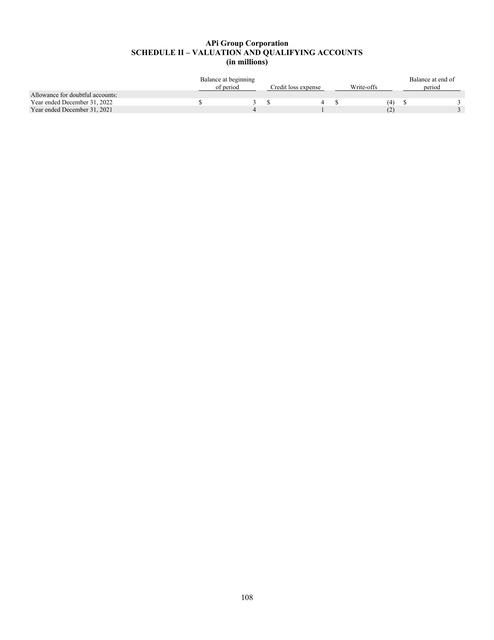box: (28, 76, 467, 113)
